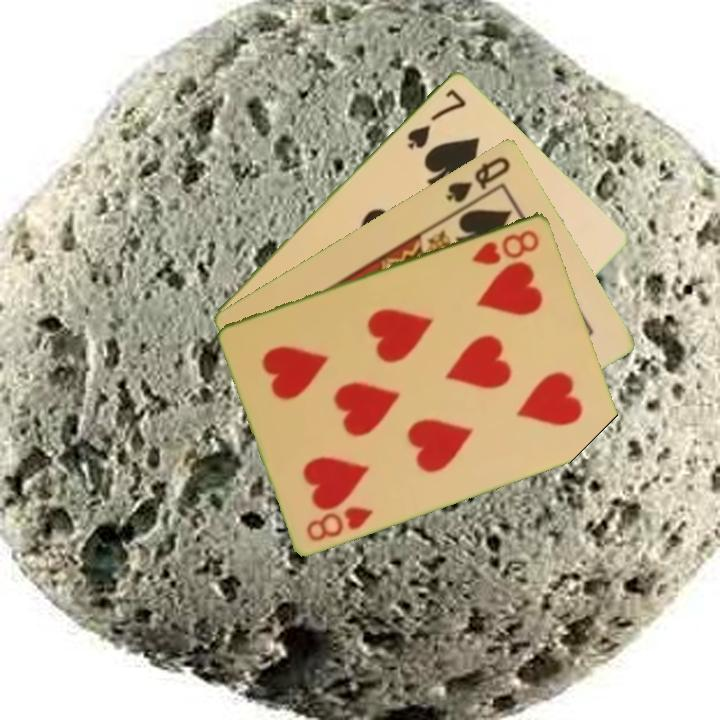7s: (403, 84, 469, 151)
8h: (469, 225, 543, 268), (303, 502, 376, 544)
Qs: (442, 152, 514, 205)
